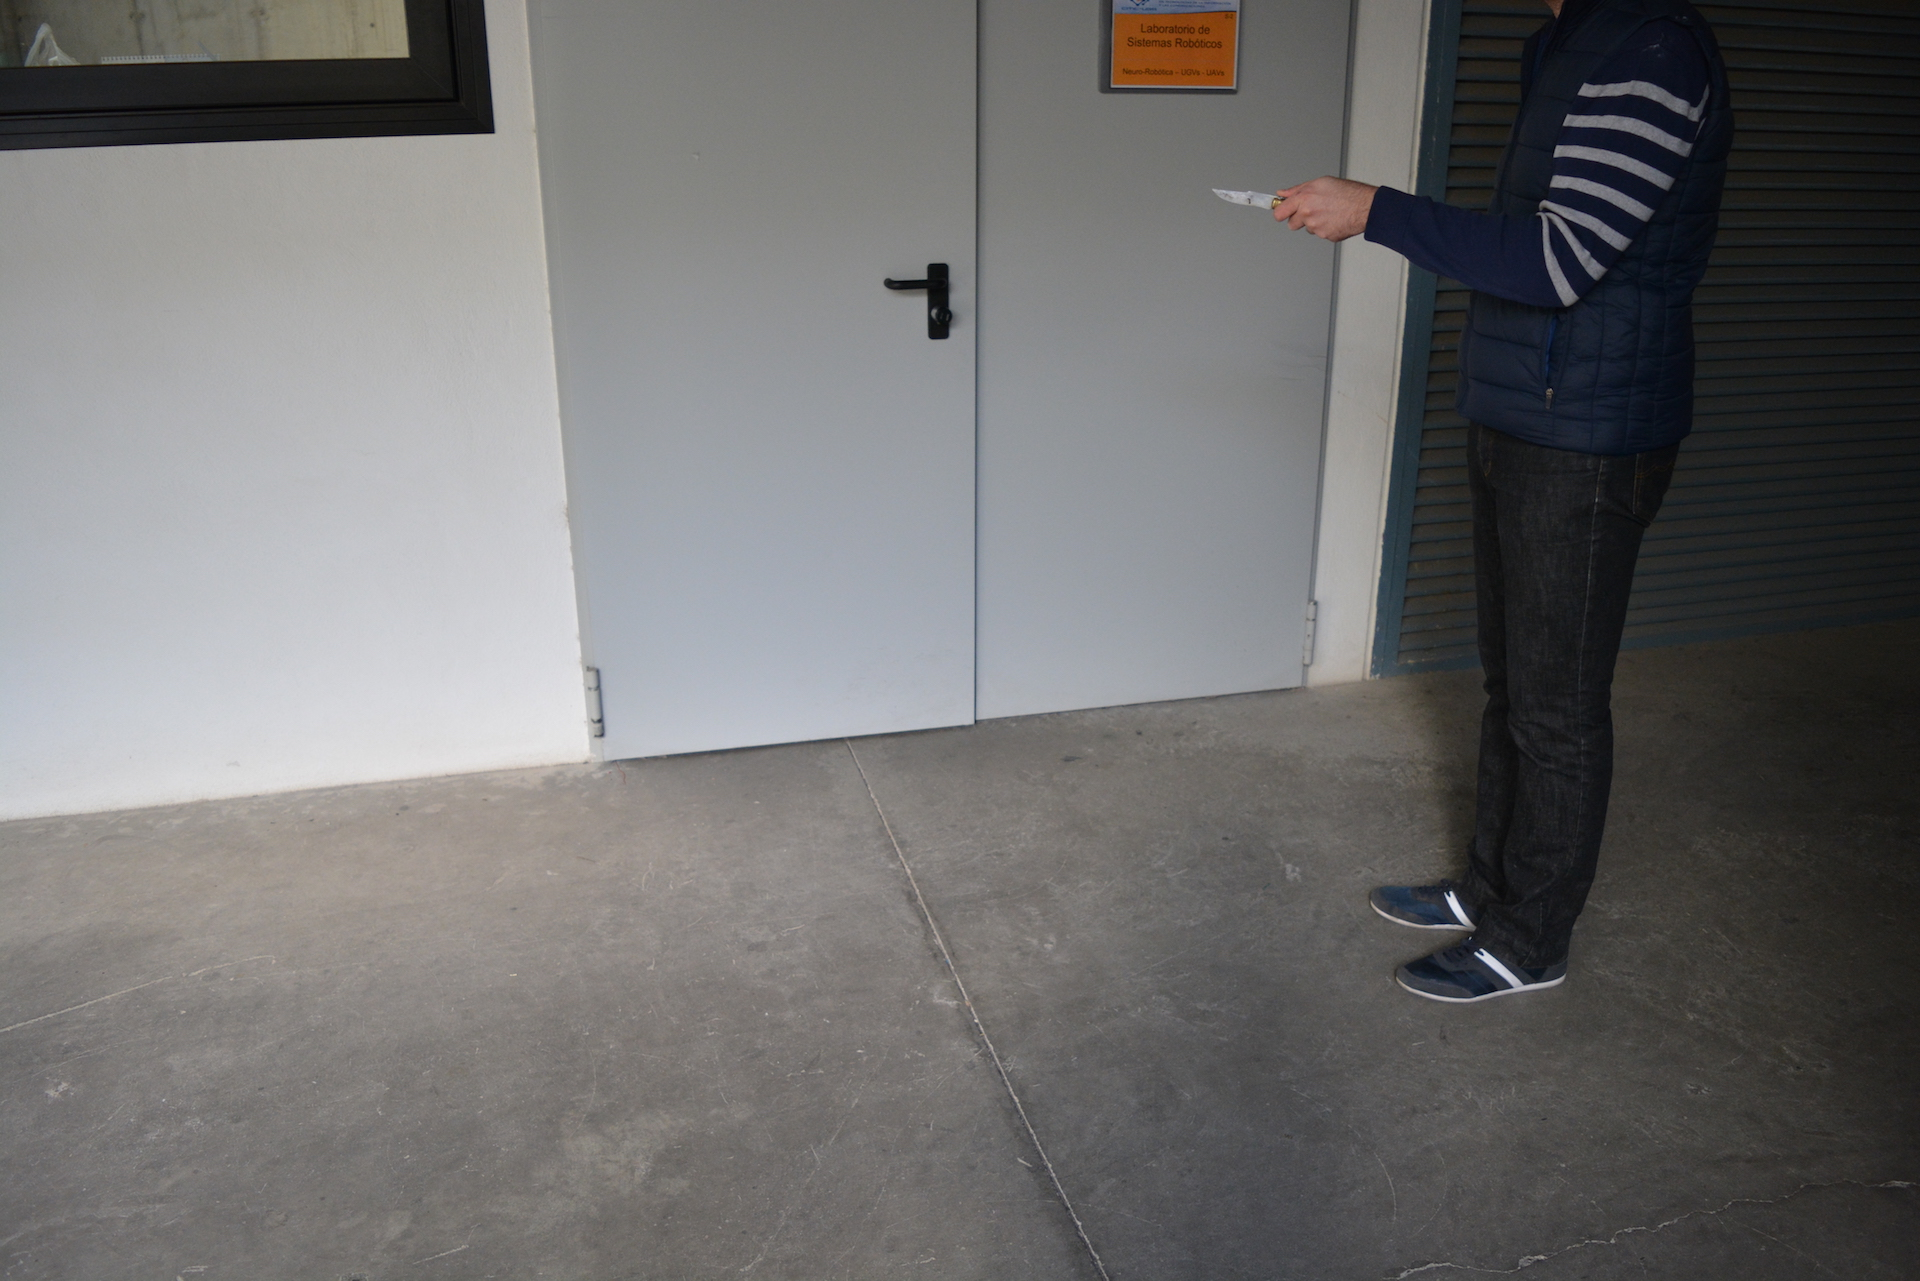knife: (1201, 177, 1300, 219)
